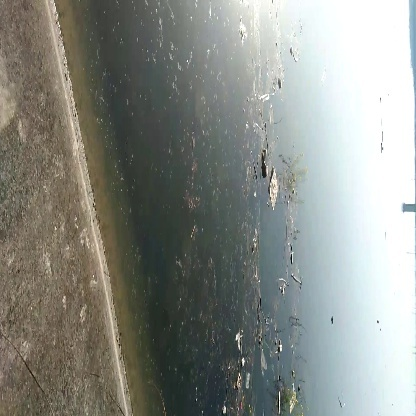plastic-garbage: (265, 165, 287, 214)
